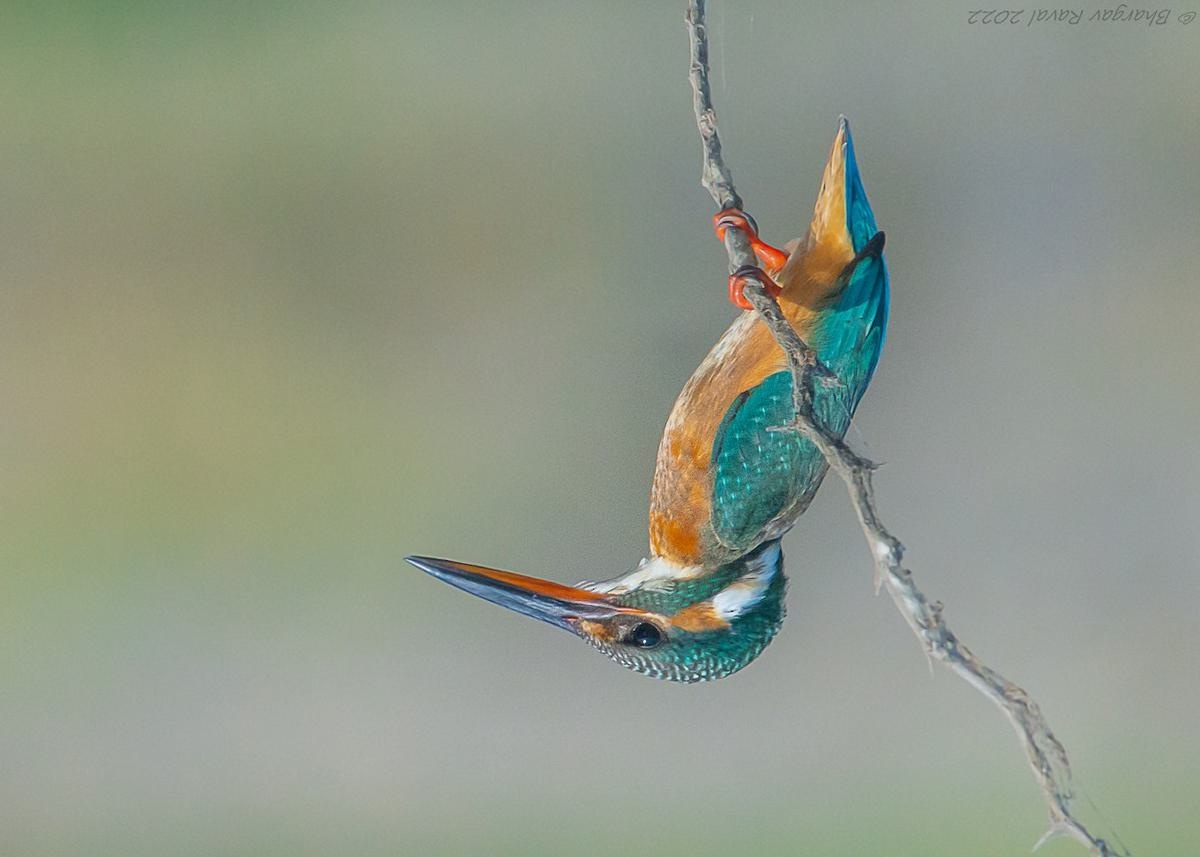kingfisher: (424, 85, 912, 708)
